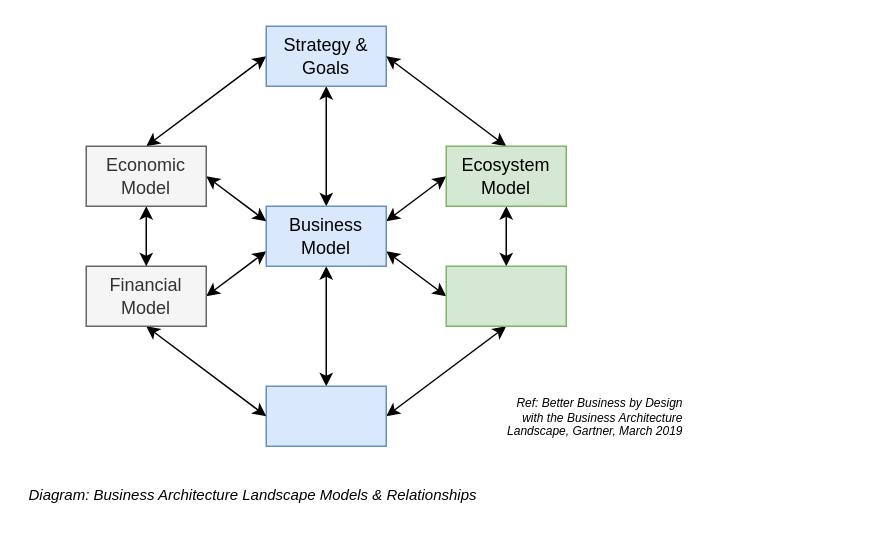
This 891x533 diagram has some shape labels left out. The centre of each missing label's shape, as x and y in pixels:
"Operating Model" belongs at (x=325, y=415).
"Service Model" belongs at (x=505, y=295).
